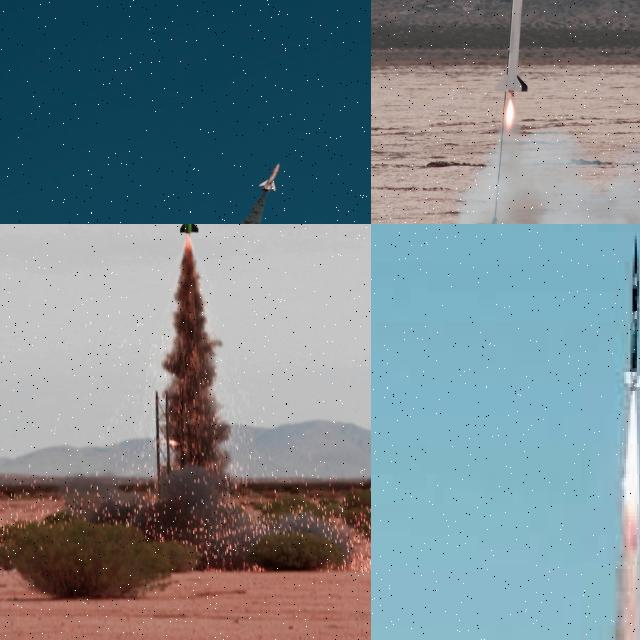Rocket: (494, 0, 528, 93), (621, 233, 640, 396), (258, 162, 280, 194)
